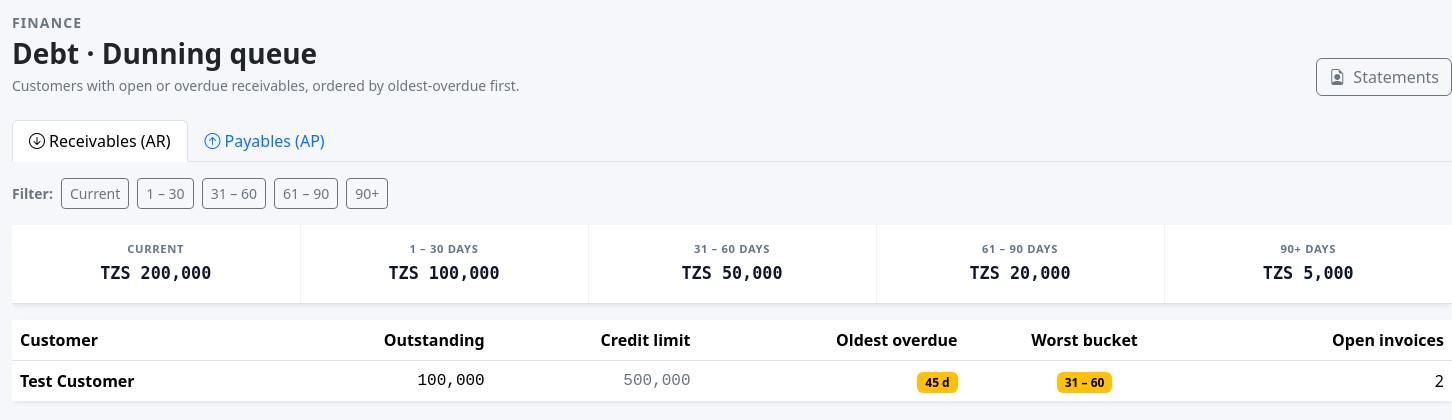
DebtComponent — Slice G.1 AR/AP tab toggle › AP empty state › shows empty message when AP dunning returns no rows
Click the tab with id "tab-ap". click: (265, 141)
box: [188,120,342,162]
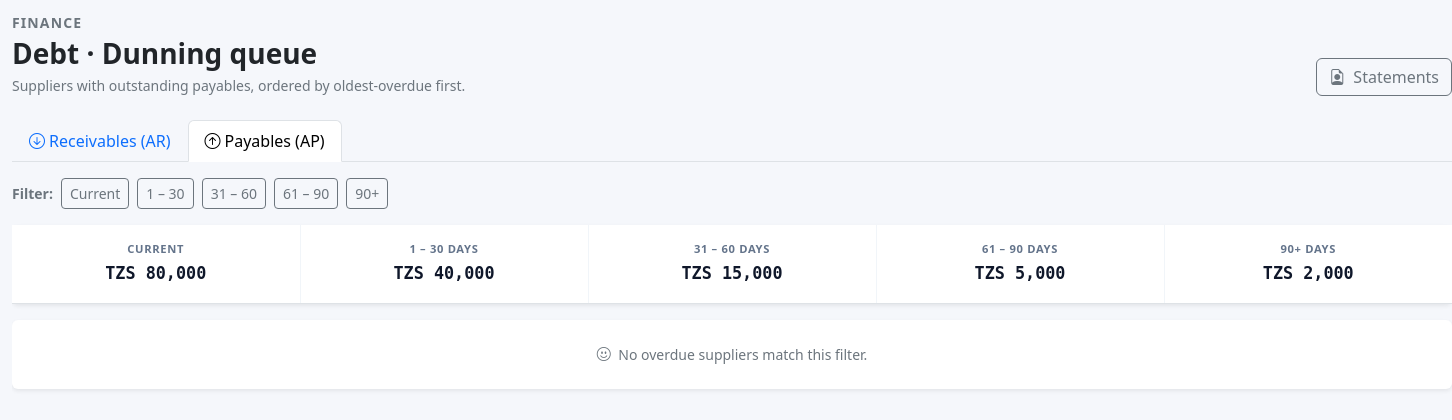
Now the text "No overdue suppliers match this filter" is shown, box [615,345,867,364]
